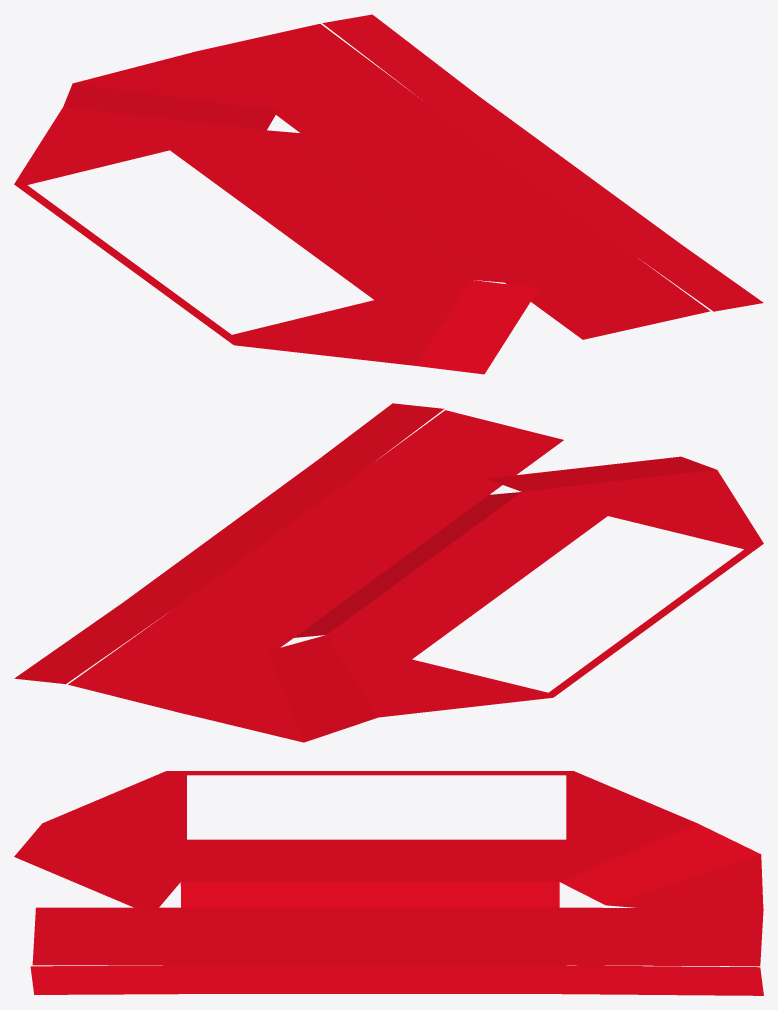
The model's file is nav-mesh9.gltf.
3 views of the same model, one above another, from view 1: azimuth 30°, elevation 25°; view 2: azimuth 150°, elevation 25°; view 3: azimuth 270°, elevation 25° (orthographic). The views are drawn at different scales.
Parts seen in each view (by area): view 1: stairfloor.001; view 2: stairfloor.001; view 3: stairfloor.001.
Part boxes in pixels (bbox=[...]): stairfloor.001: bbox=[14, 14, 763, 374]; stairfloor.001: bbox=[14, 403, 763, 742]; stairfloor.001: bbox=[14, 771, 763, 995].
Size of the model in its own units: 6.47 by 0.2351 by 9.83.
